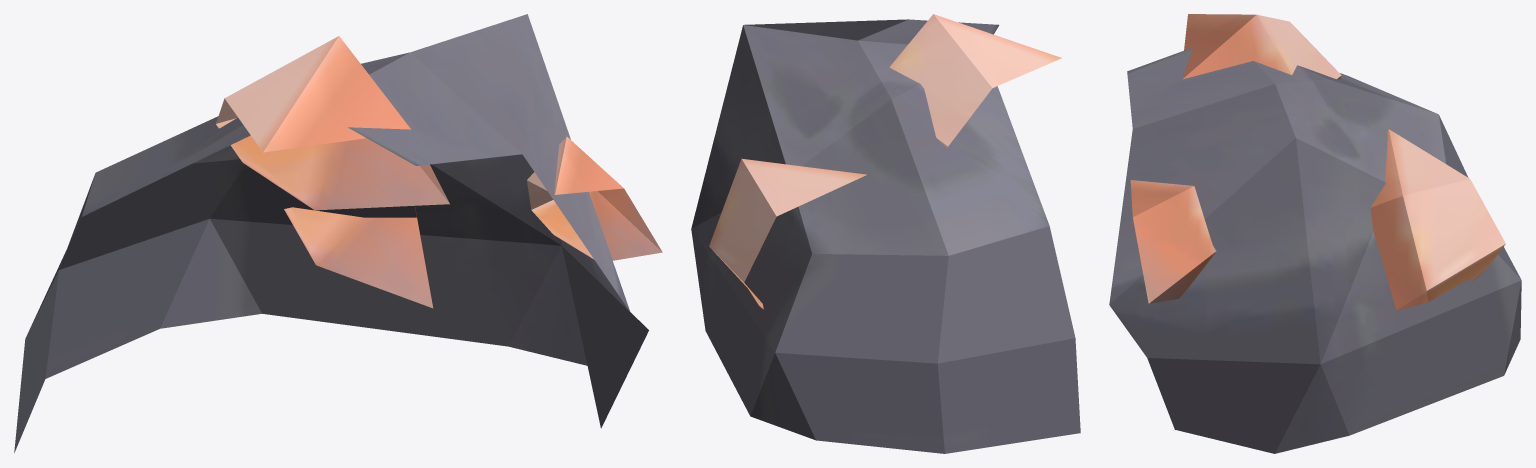
Rendered from RockSmallSalt.fbx.
3 renders of one model, left to right at view 1: azimuth 30°, elevation 25°; view 2: azimuth 150°, elevation 25°; view 3: azimuth 270°, elevation 25°, orthographic. The views are drawn at different scales.
Parts seen in each view (by area): view 1: RockMesh, Resource1 (1), Resource1, Resource2; view 2: RockMesh, Resource1 (1), Resource1; view 3: RockMesh, Resource1, Resource2, Resource1 (1).
Part boxes in pixels (x1,y1,x2,y2): RockMesh: (14,14,648,452); Resource1 (1): (216,36,449,210); Resource1: (284,207,433,308); Resource2: (527,136,662,260); RockMesh: (691,19,1080,453); Resource1 (1): (889,14,1061,148); Resource1: (709,158,866,309); RockMesh: (1109,47,1521,453); Resource1: (1370,129,1505,310); Resource2: (1130,180,1216,303); Resource1 (1): (1182,14,1341,79).
Size of what is drawn, in the model's own units: 1.06 by 0.7872 by 0.8882.
